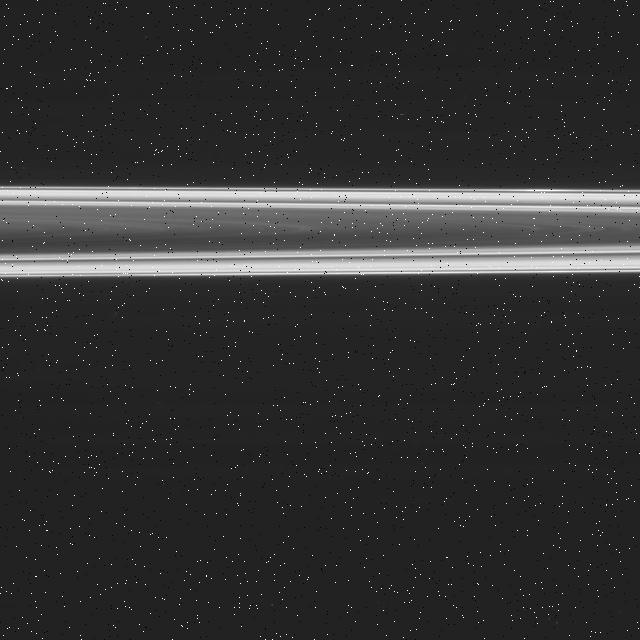Saturn: (0, 184, 640, 280)
